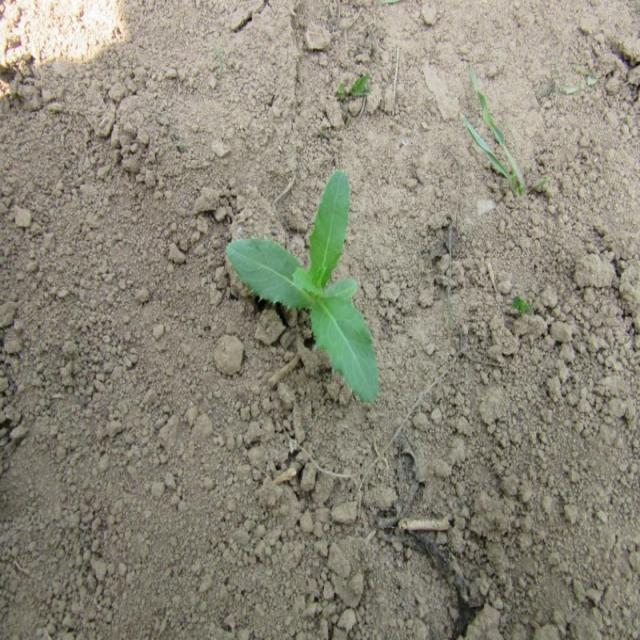cs: (224, 168, 382, 412)
